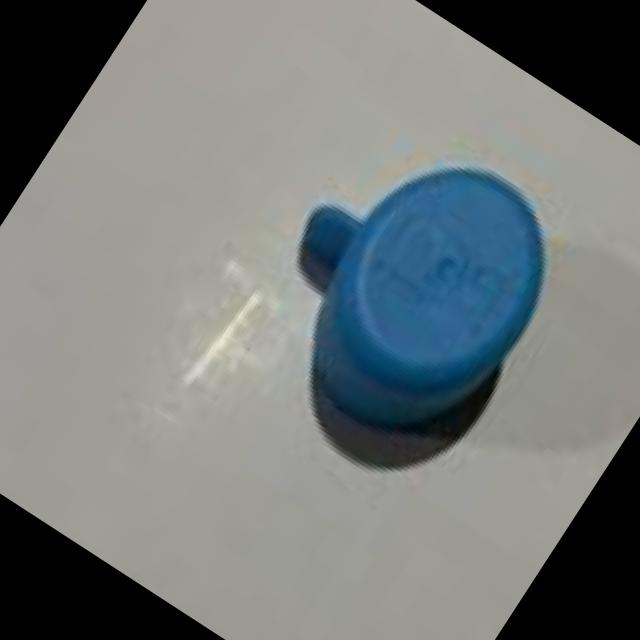TutupGalon: (217, 94, 599, 496)
